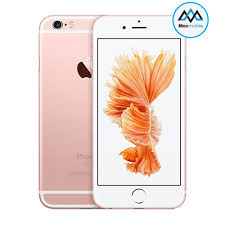iphone: (88, 7, 187, 209)
iphone6: (89, 9, 188, 211)
